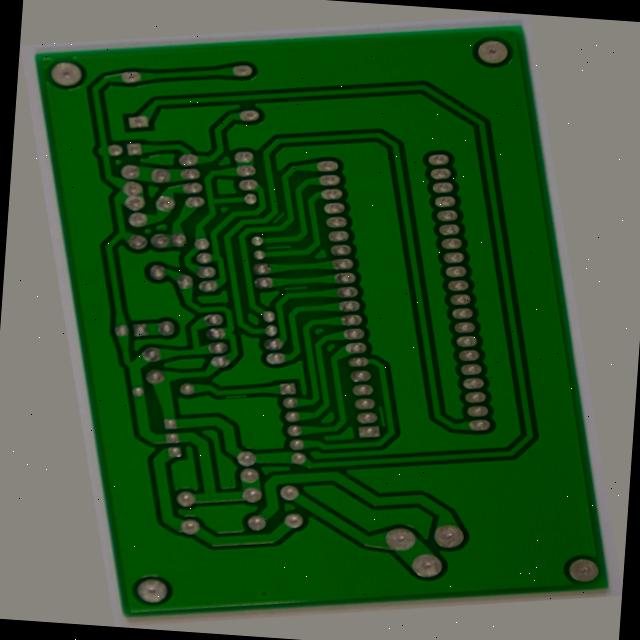spurious_copper: (170, 380, 212, 398), (277, 272, 315, 290), (265, 228, 307, 243), (282, 194, 311, 213), (360, 417, 377, 448)
